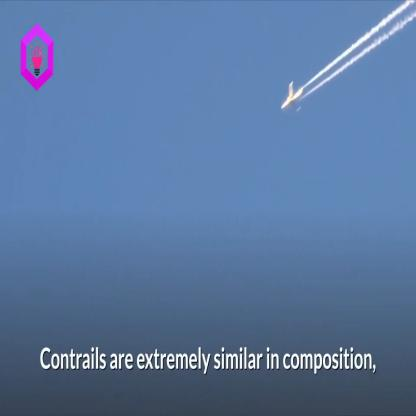plane: (277, 78, 308, 121)
